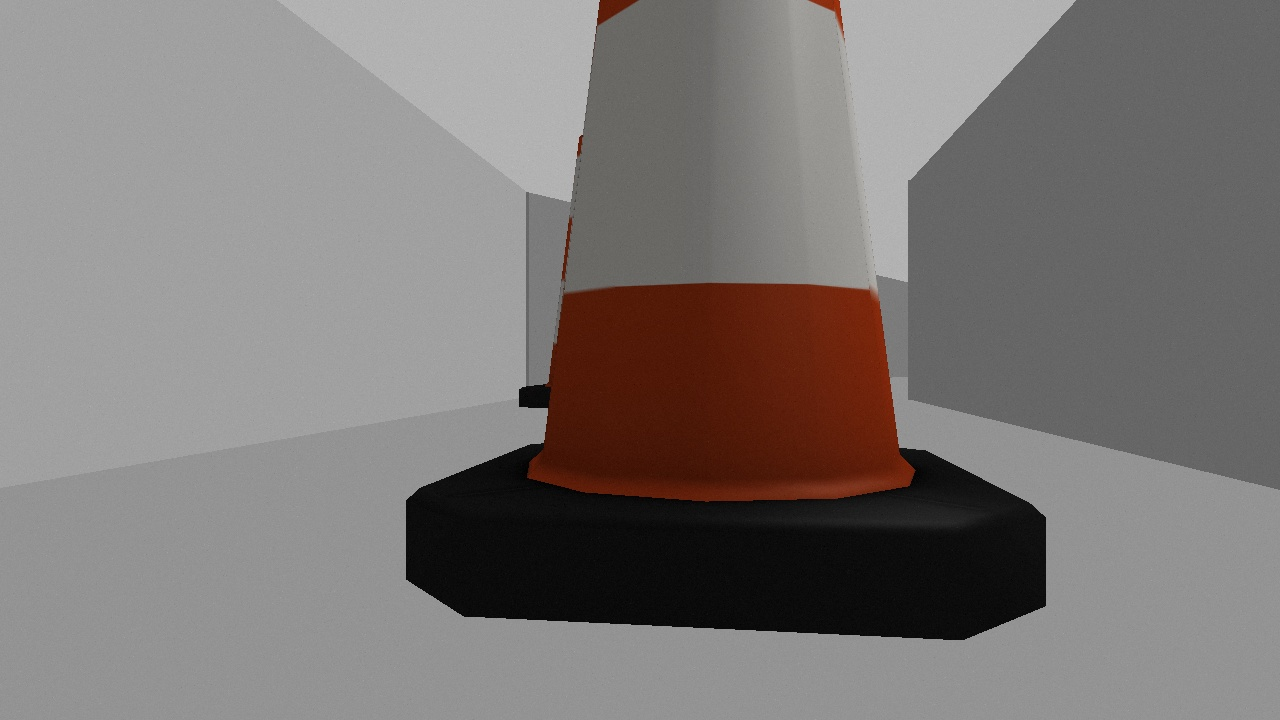barricade: (319, 1, 1075, 667)
